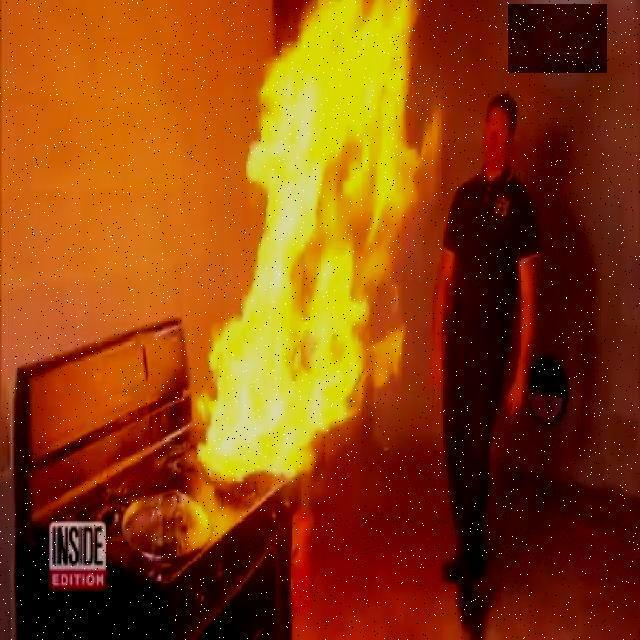Fire: (199, 1, 442, 489)
